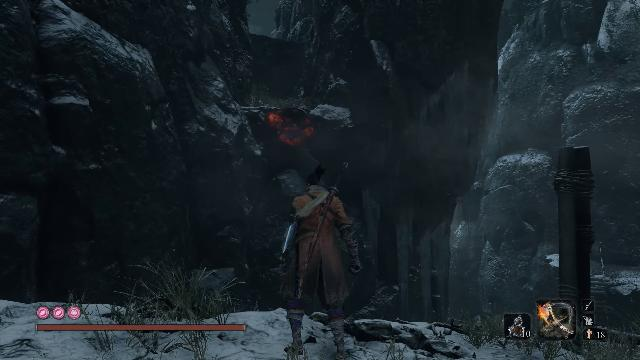sk: (275, 161, 362, 358)
